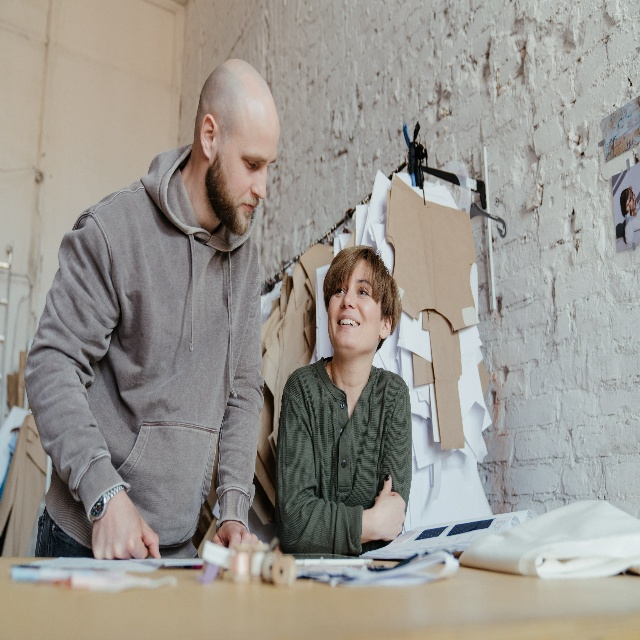Sin_guantes: (91, 489, 161, 560), (372, 473, 406, 541), (211, 519, 264, 549)
